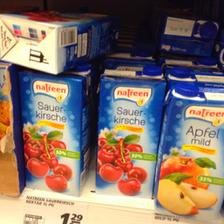Saft: (94, 65, 166, 199), (153, 82, 223, 218), (18, 70, 92, 196), (0, 9, 122, 74)
